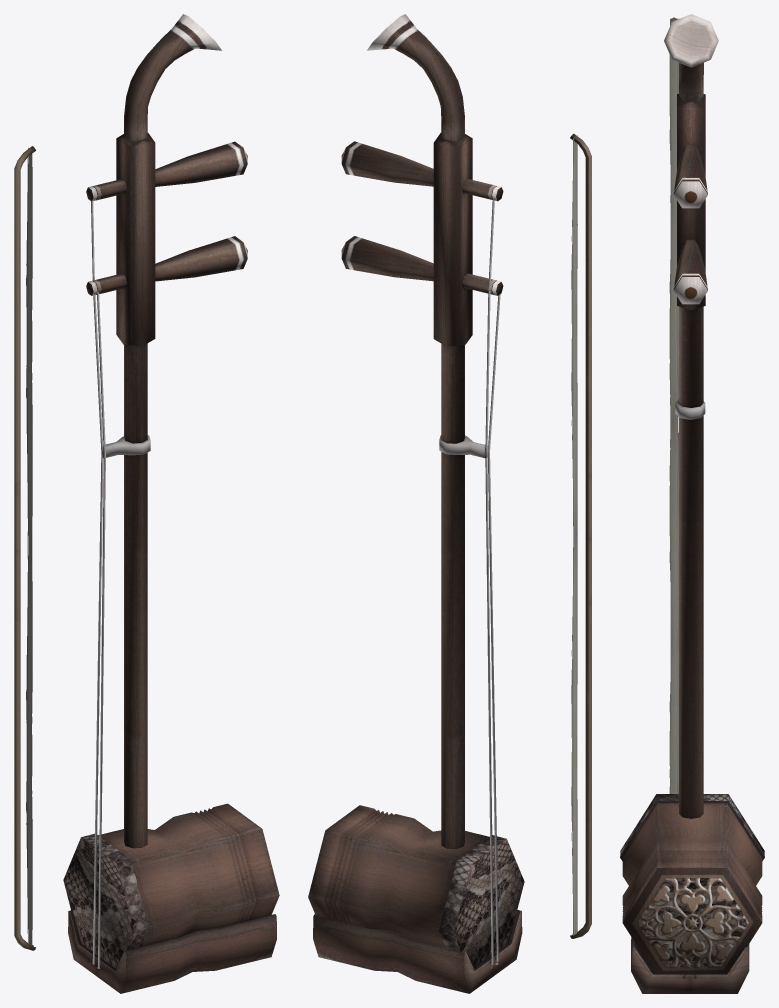
3 renders of one model, left to right at view 1: azimuth 30°, elevation 25°; view 2: azimuth 150°, elevation 25°; view 3: azimuth 270°, elevation 25°, orthographic.
Visible parts, largest first — view 1: node_id6, node_id14, node_id4, node_id16, node_id10, node_id8, node_id12; view 2: node_id6, node_id14, node_id4, node_id16, node_id10, node_id8, node_id12; view 3: node_id14, node_id6, node_id4, node_id10, node_id16, node_id12.
Boxes of the visible parts, x1,y1,x2,y2 form: node_id6: [116, 14, 221, 848]; node_id14: [63, 803, 279, 968]; node_id4: [14, 146, 100, 968]; node_id16: [68, 910, 276, 993]; node_id10: [86, 141, 247, 295]; node_id8: [91, 201, 105, 966]; node_id12: [101, 435, 150, 458]; node_id6: [367, 14, 472, 848]; node_id14: [308, 805, 524, 968]; node_id4: [490, 133, 591, 968]; node_id16: [313, 910, 522, 993]; node_id10: [341, 141, 503, 295]; node_id8: [485, 199, 500, 965]; node_id12: [439, 435, 488, 458]; node_id14: [620, 794, 764, 973]; node_id6: [664, 14, 718, 818]; node_id4: [669, 17, 678, 793]; node_id10: [673, 144, 707, 304]; node_id16: [631, 937, 749, 993]; node_id12: [675, 399, 705, 419].
Size of the model in its own units: 0.1375 by 0.5098 by 0.0704.
Materials: 7 (7 with a texture image).
